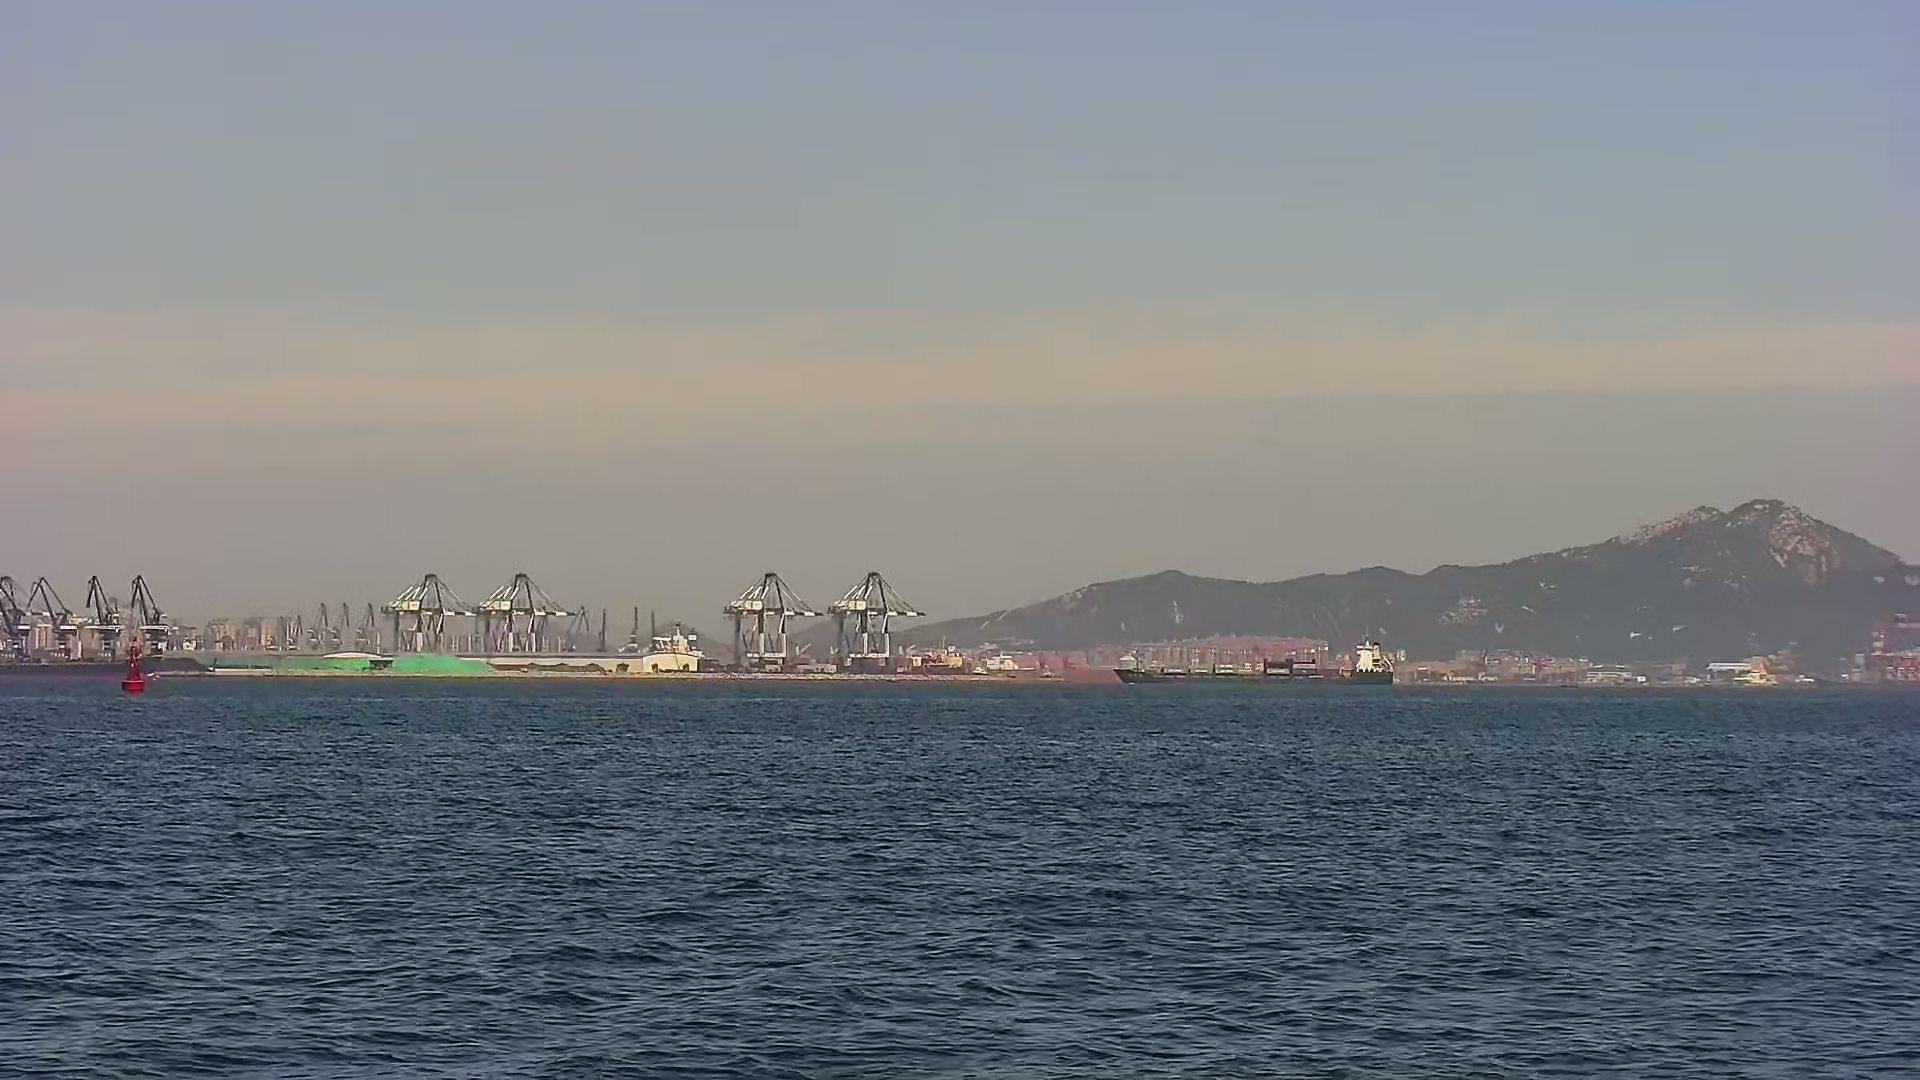buoy: (120, 642, 144, 694)
ship: (1114, 641, 1398, 690)
